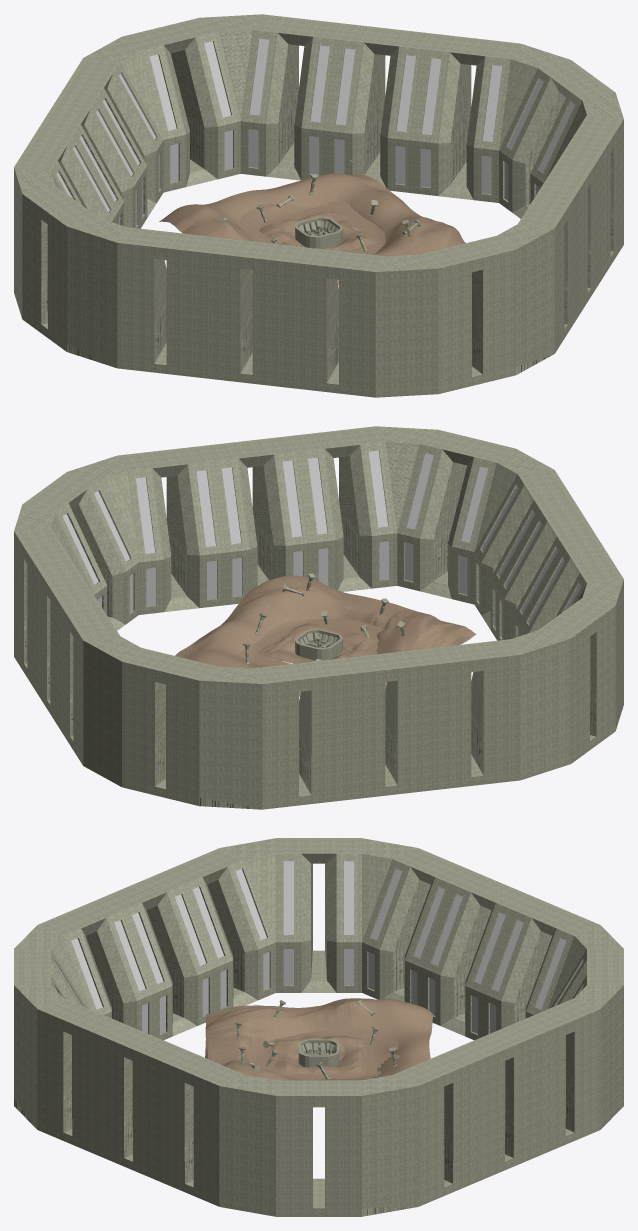
File: BARREN_00.fbx
3 views of the same model, one above another, from view 1: azimuth 30°, elevation 25°; view 2: azimuth 150°, elevation 25°; view 3: azimuth 270°, elevation 25° (orthographic). The views are drawn at different scales.
Visible parts, largest first — view 1: BARREN OUTER WALLS, BARREN SOIL, BARREN ARENA WALLS, BARREN OUTER PILLARS; view 2: BARREN OUTER WALLS, BARREN SOIL, BARREN ARENA WALLS, BARREN OUTER PILLARS; view 3: BARREN OUTER WALLS, BARREN SOIL, BARREN ARENA WALLS, BARREN OUTER PILLARS.
Part boxes in pixels (left/top/right/bottom): BARREN OUTER WALLS: left=14, top=14, right=623, bottom=397; BARREN SOIL: left=159, top=160, right=465, bottom=285; BARREN ARENA WALLS: left=295, top=217, right=342, bottom=248; BARREN OUTER PILLARS: left=218, top=174, right=420, bottom=251; BARREN OUTER WALLS: left=14, top=426, right=623, bottom=809; BARREN SOIL: left=175, top=575, right=476, bottom=696; BARREN ARENA WALLS: left=295, top=629, right=342, bottom=660; BARREN OUTER PILLARS: left=243, top=573, right=404, bottom=663; BARREN OUTER WALLS: left=14, top=838, right=623, bottom=1216; BARREN SOIL: left=205, top=998, right=432, bottom=1080; BARREN ARENA WALLS: left=298, top=1039, right=339, bottom=1067; BARREN OUTER PILLARS: left=235, top=1000, right=400, bottom=1079.
Size of the model in its own units: 866 by 189 by 866.
